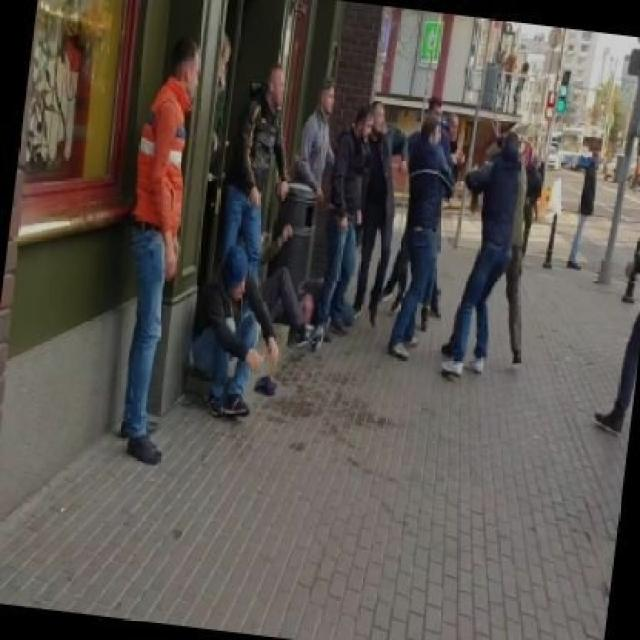fight: (386, 114, 532, 381)
non-fight: (96, 26, 200, 469), (215, 61, 293, 296), (184, 271, 276, 424), (283, 77, 348, 209)
